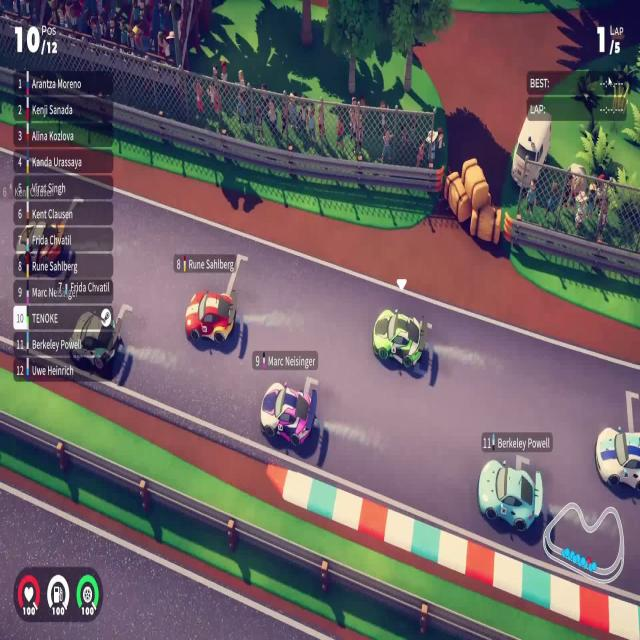car: (477, 458, 543, 533), (259, 375, 319, 448), (372, 306, 427, 370), (184, 287, 237, 345), (594, 425, 640, 491)
